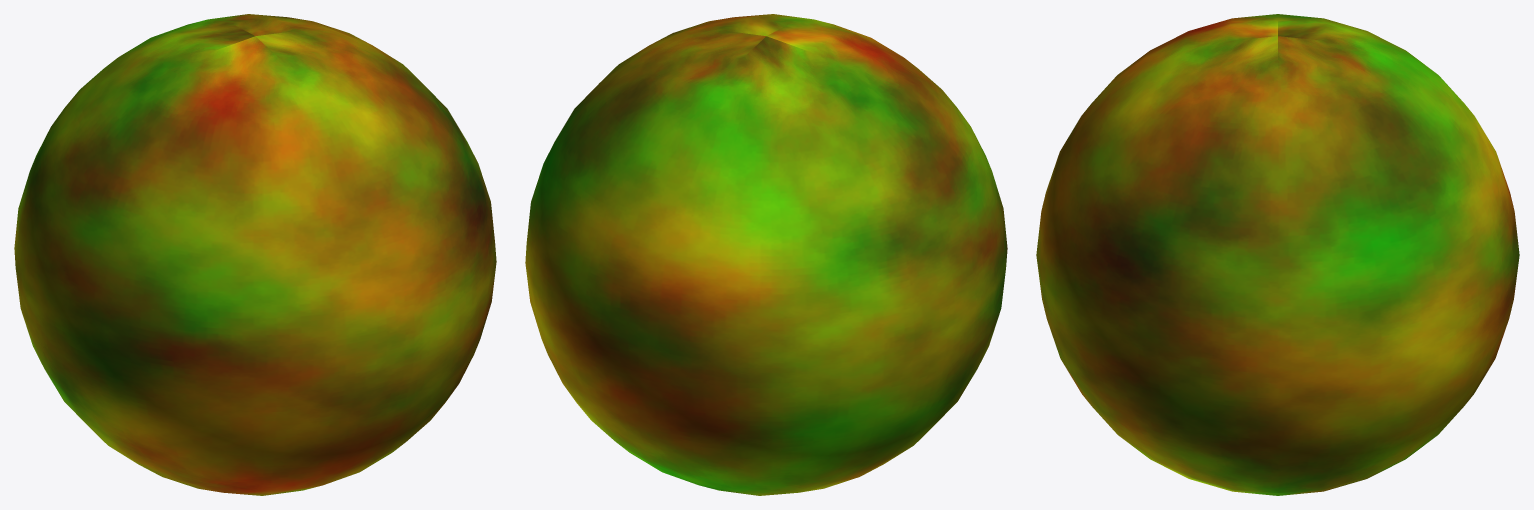
The model's file is GhostNote.glb.
3 views of the same model, side by side, from view 1: azimuth 30°, elevation 25°; view 2: azimuth 150°, elevation 25°; view 3: azimuth 270°, elevation 25° (orthographic).
Parts seen in each view (by area): view 1: Sphere; view 2: Sphere; view 3: Sphere.
Boxes of the visible parts, <box> form: Sphere: <box>14,14,496,495</box>; Sphere: <box>525,14,1007,495</box>; Sphere: <box>1036,14,1519,495</box>.
Size of the model in its own units: 0.2 by 0.2 by 0.2.
1 material, 1 textured.
